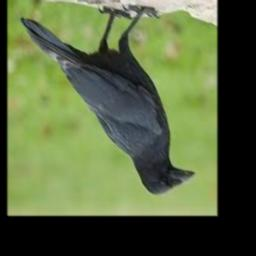Crow: (21, 5, 194, 195)
